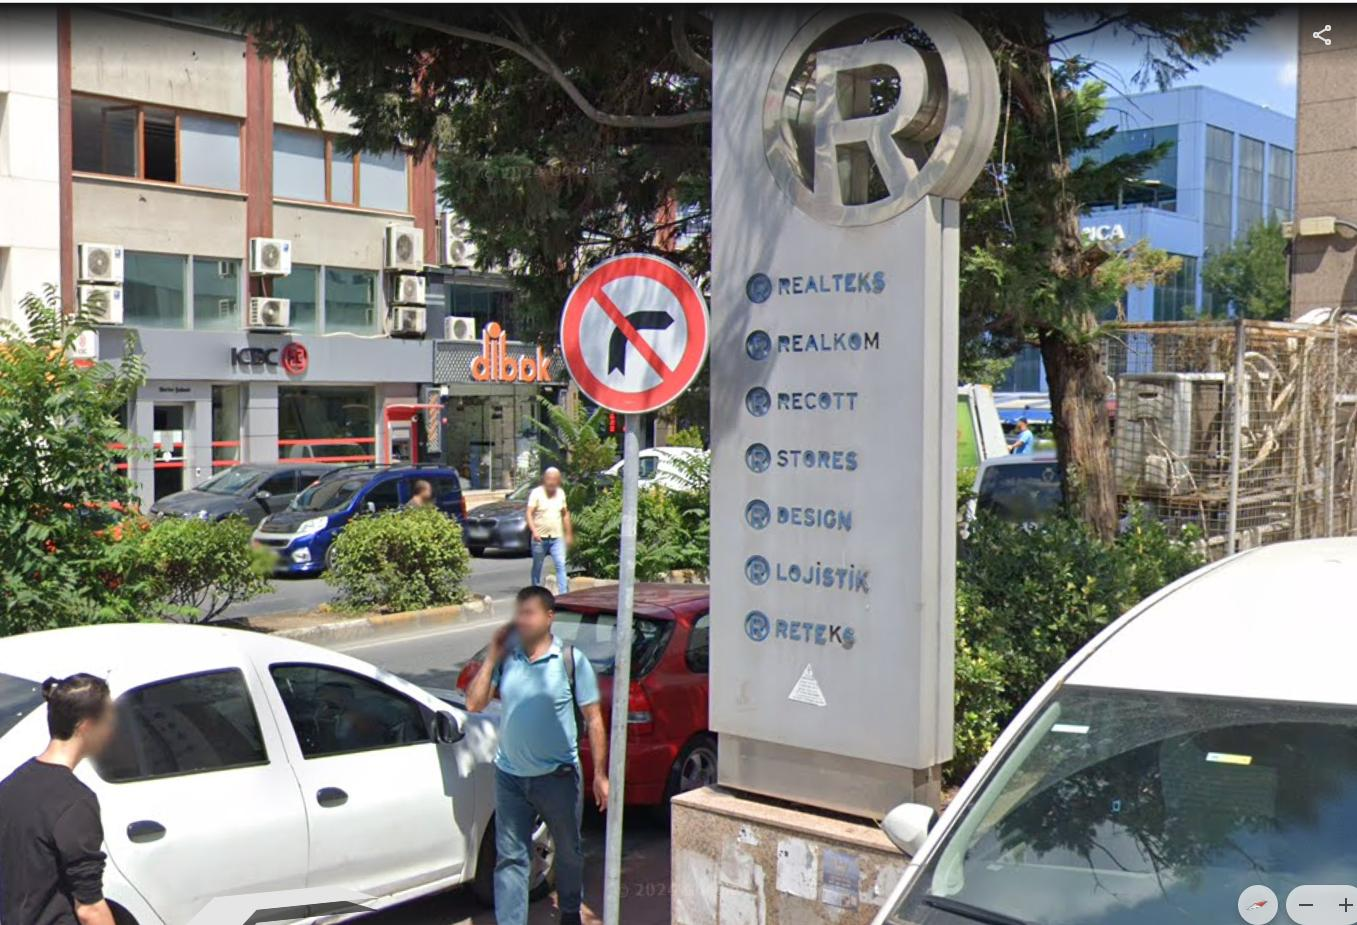leftturnsareforbidden: (560, 254, 710, 406)
